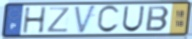B: (144, 5, 171, 33)
C: (95, 5, 121, 35)
H: (22, 6, 48, 35)
U: (121, 5, 146, 33)
V: (73, 4, 98, 36)
Z: (46, 6, 72, 34)
